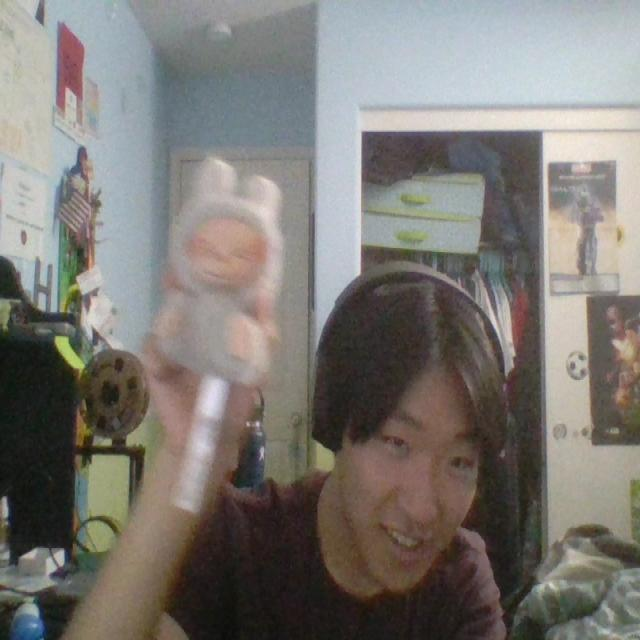labubu: (153, 157, 283, 417)
